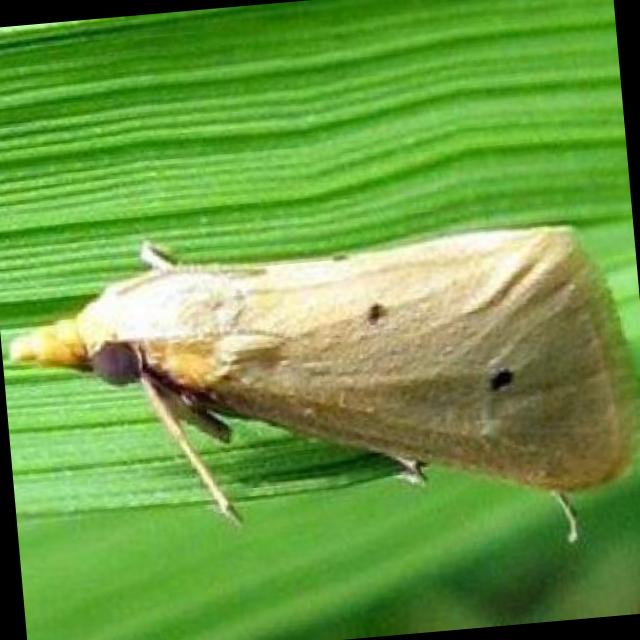stem-borer: (0, 204, 640, 568)
